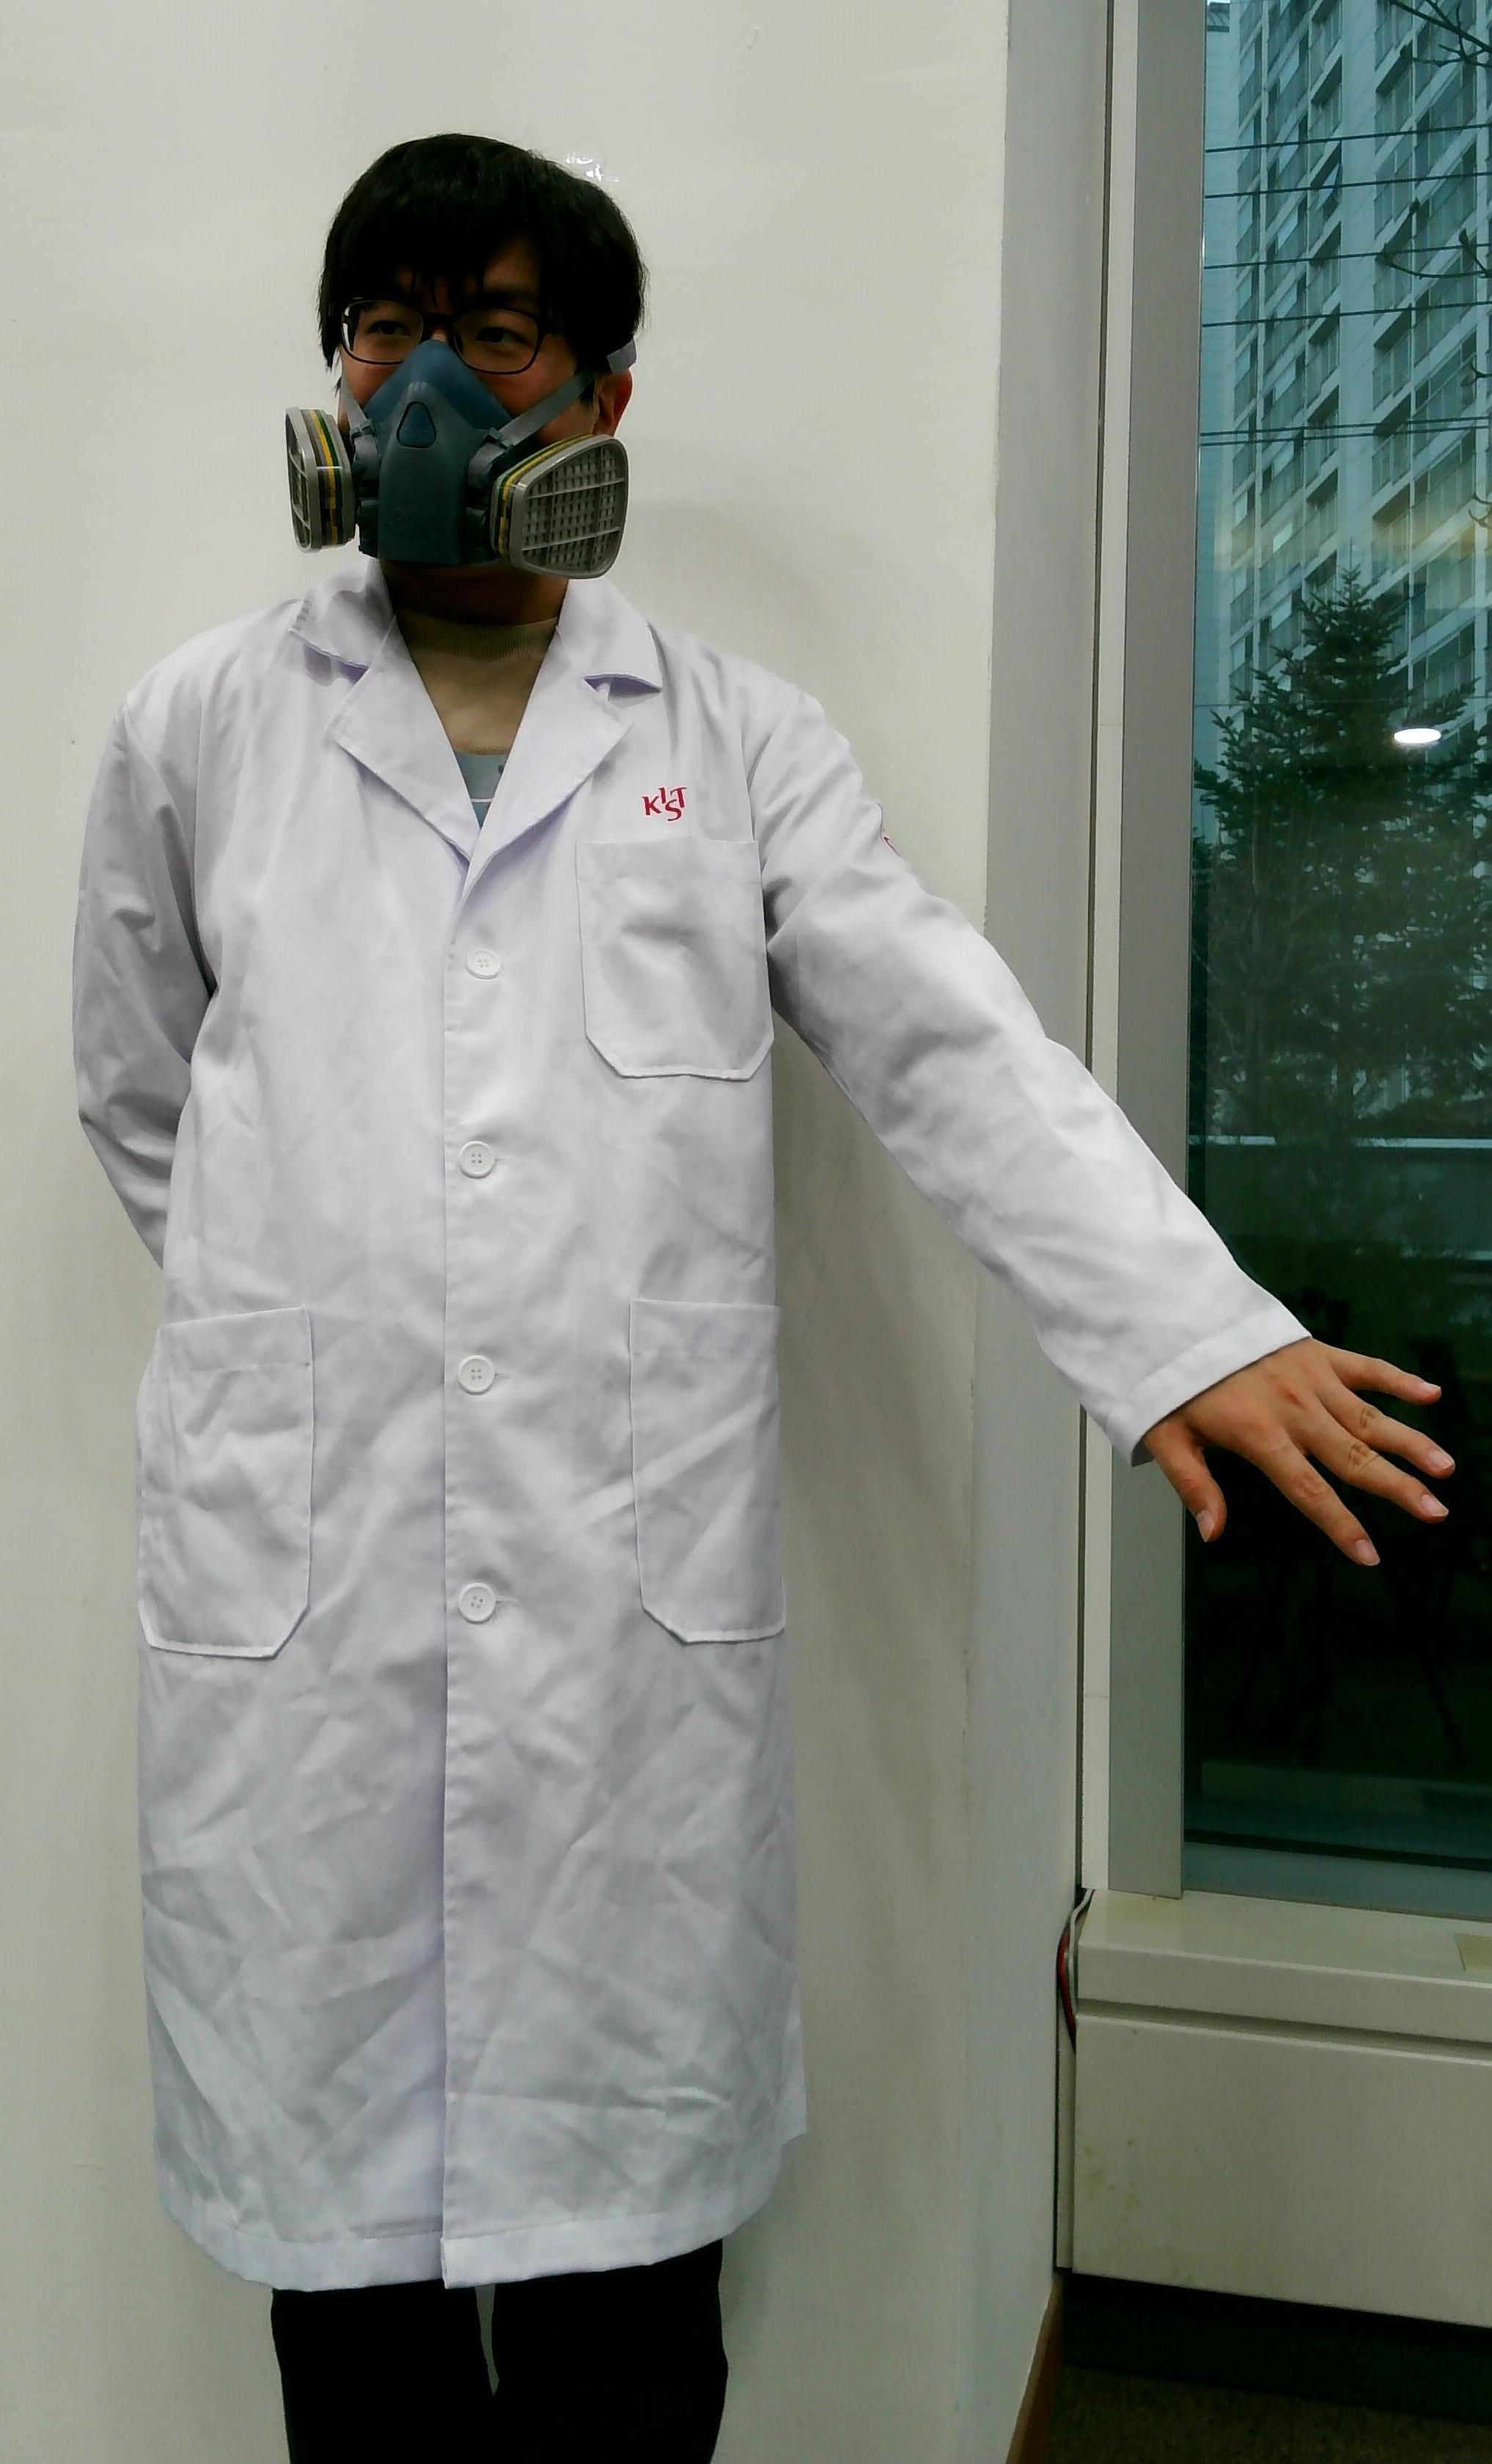lab_coat: (90, 662, 802, 2240)
